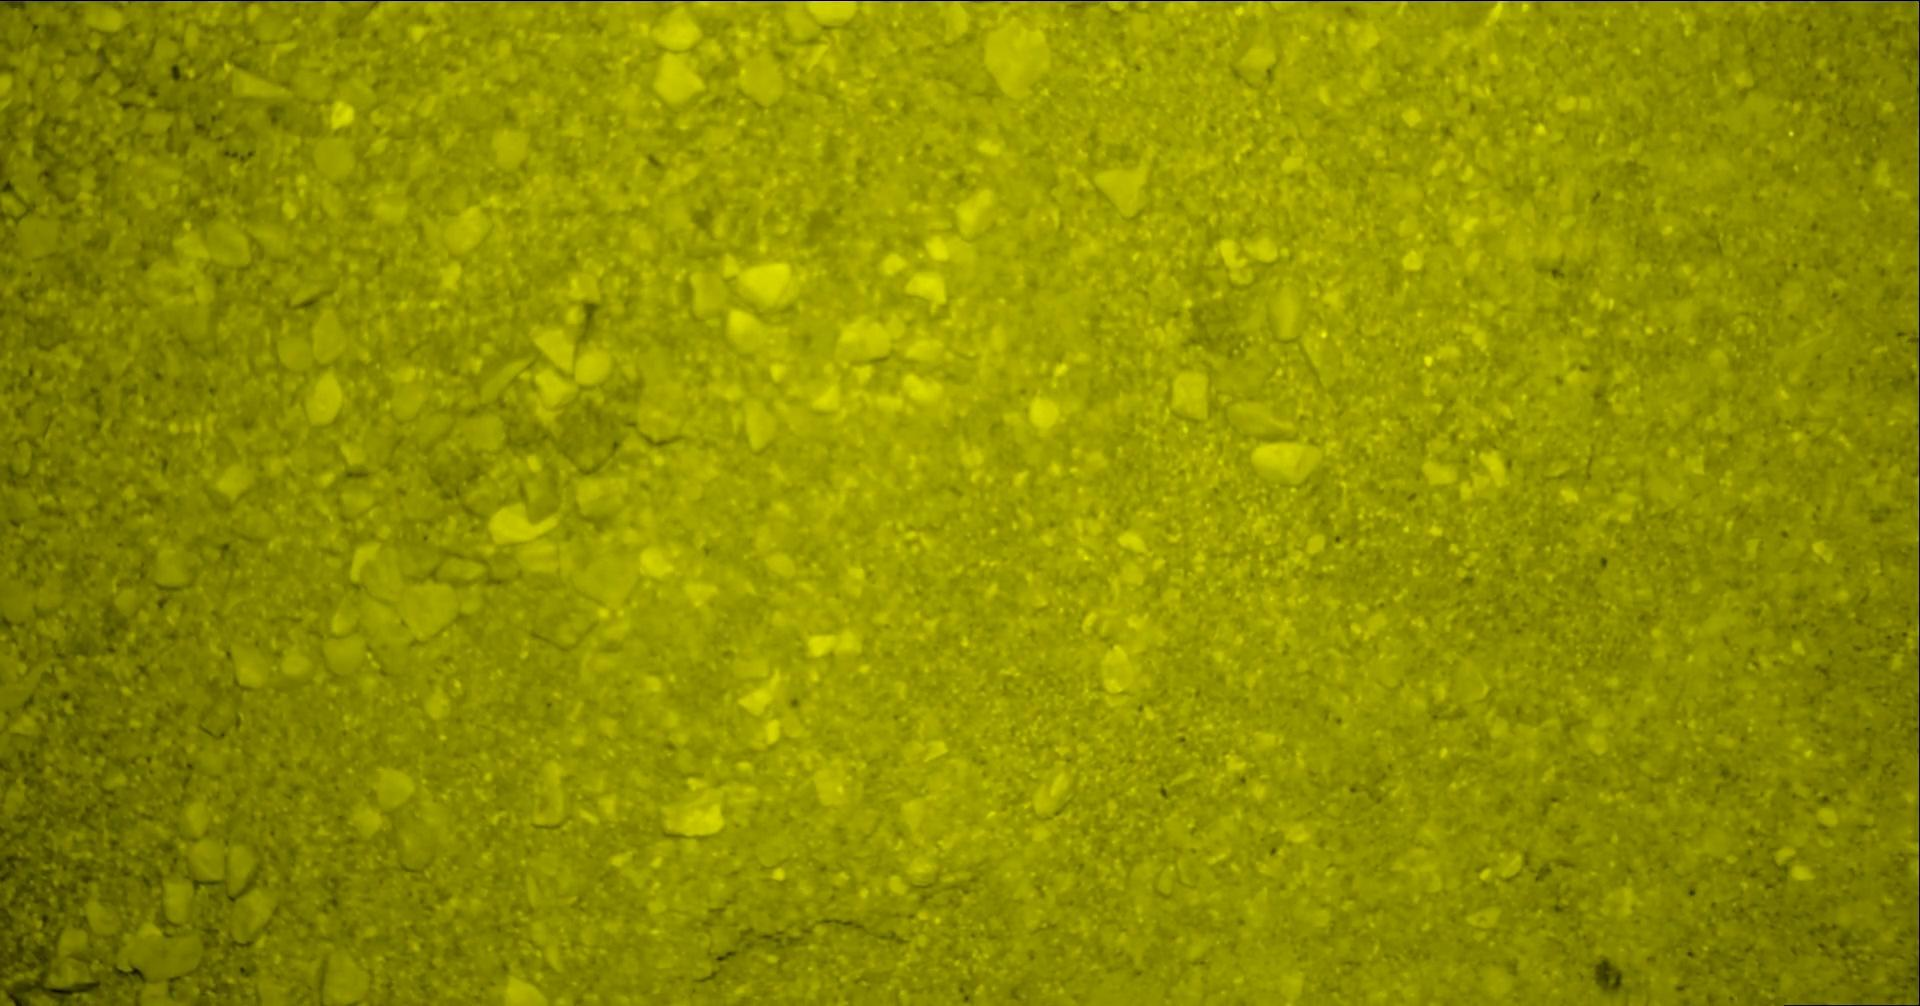ant: (1916, 955, 1919, 1005)
